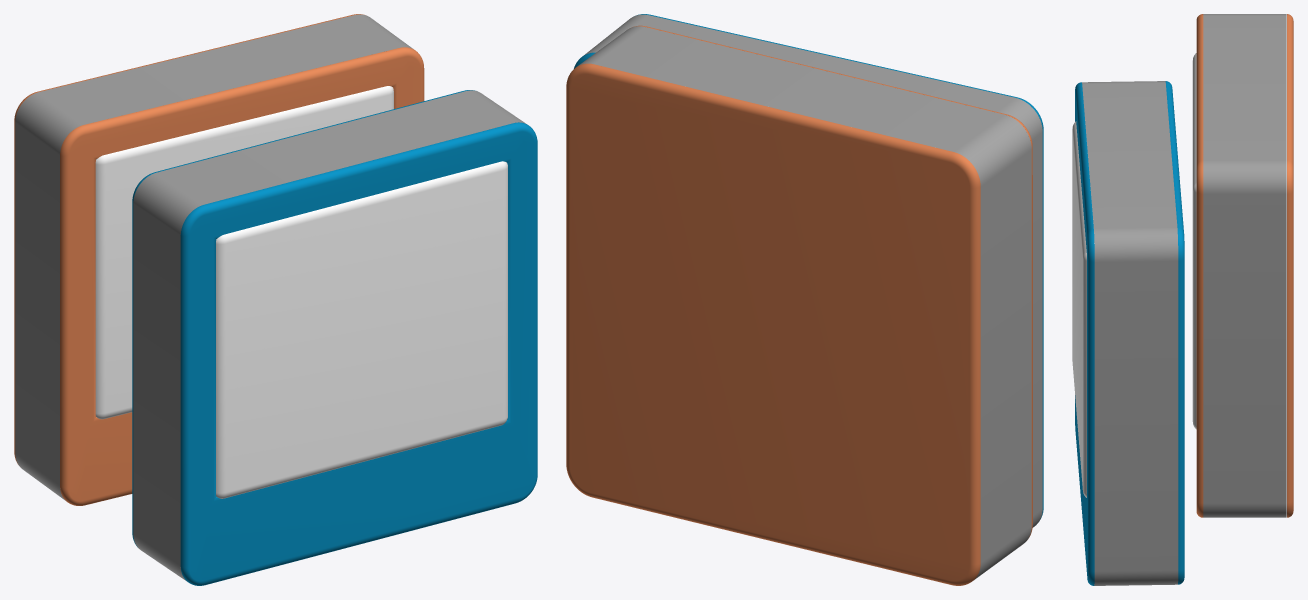
The model's file is photo-gallery-3d-animated-icon-1276562755183.glb.
The picture shows the model from 3 angles, left to right: view 1: azimuth 30°, elevation 25°; view 2: azimuth 150°, elevation 25°; view 3: azimuth 270°, elevation 25°; orthographic projection. The views are drawn at different scales.
Parts seen in each view (by area): view 1: Cube.037, Cube.036, Cube.001, Cube.002, Cube.038, Cube.039; view 2: Cube.038, Cube.002, Cube.001, Cube.036; view 3: Cube.001, Cube.002, Cube.036, Cube.038, Cube.037, Cube.039.
Boxes of the visible parts, x1,y1,x2,y2 form: Cube.037: [216, 161, 507, 498]; Cube.036: [132, 90, 537, 585]; Cube.001: [133, 90, 525, 580]; Cube.002: [15, 14, 412, 500]; Cube.038: [14, 14, 424, 505]; Cube.039: [95, 86, 393, 419]; Cube.038: [566, 25, 1032, 585]; Cube.002: [578, 26, 1031, 579]; Cube.001: [584, 14, 1042, 527]; Cube.036: [574, 14, 1043, 521]; Cube.001: [1082, 81, 1178, 585]; Cube.002: [1203, 14, 1286, 517]; Cube.036: [1075, 81, 1184, 585]; Cube.038: [1196, 14, 1293, 517]; Cube.037: [1072, 121, 1094, 497]; Cube.039: [1192, 53, 1196, 429].
Bounding box in the file's own units: 1.48 × 1.44 × 0.7267.
